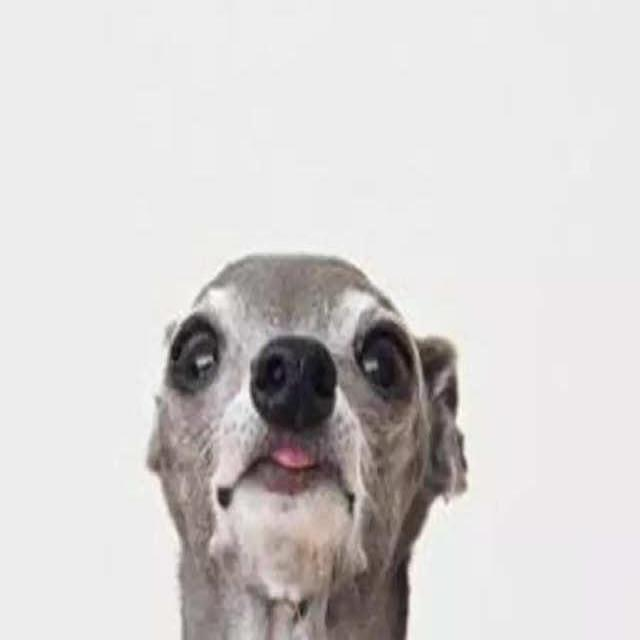dog: (129, 153, 477, 640)
